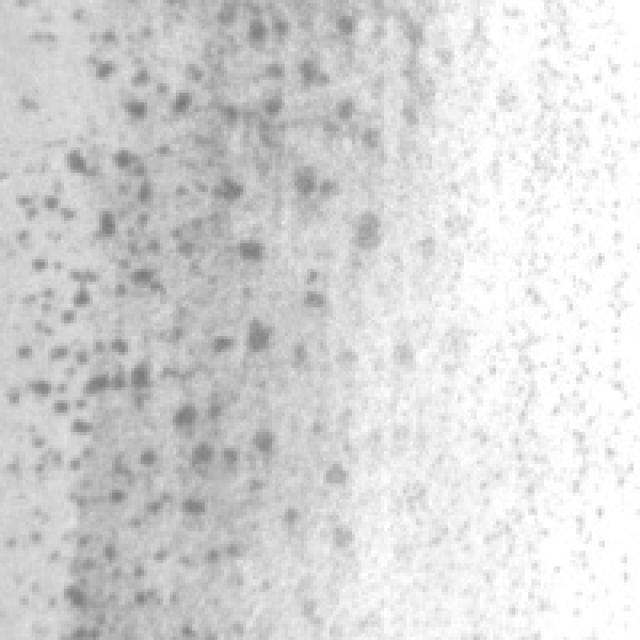pitted_surface: (16, 0, 410, 618), (509, 3, 624, 522)
